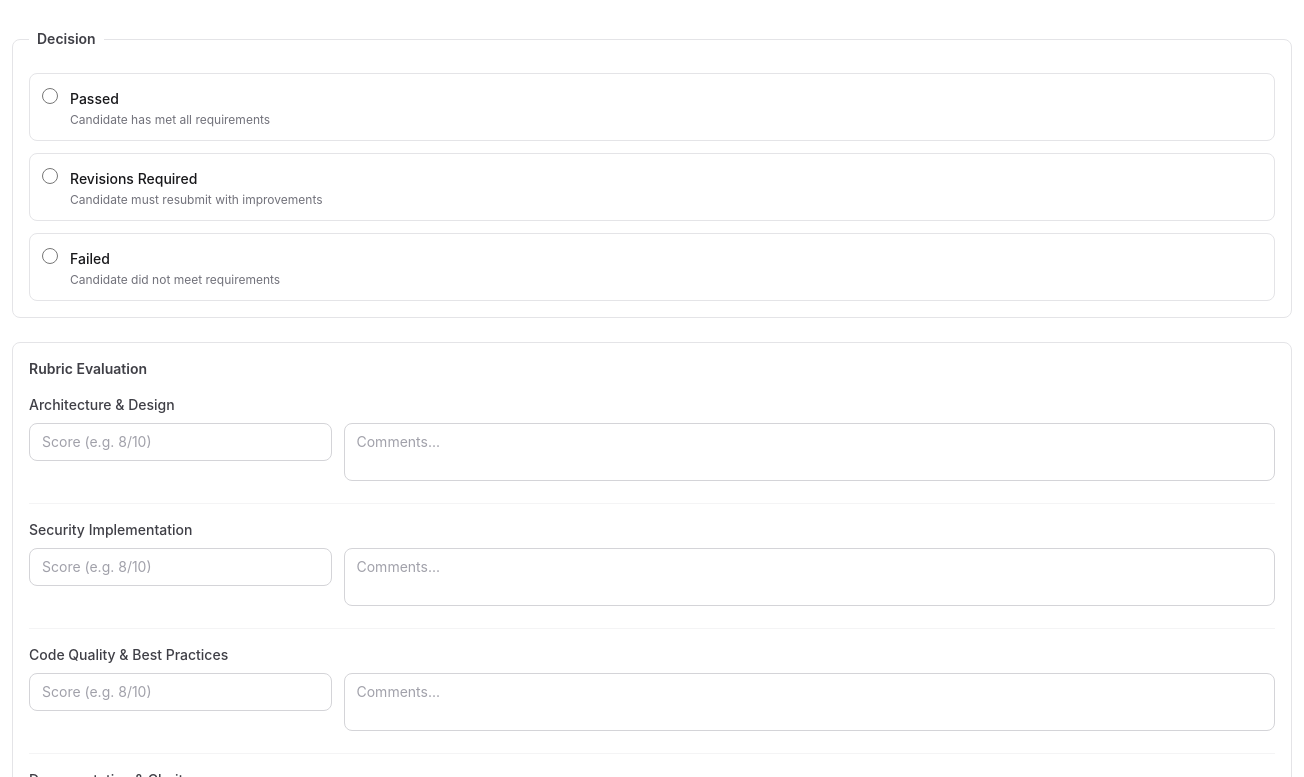
disables submit until a decision is selected
Click the radio button labelled "Passed Candidate has met all requirements".
click(50, 96)  # box [42, 88, 58, 104]
(page scrolled)
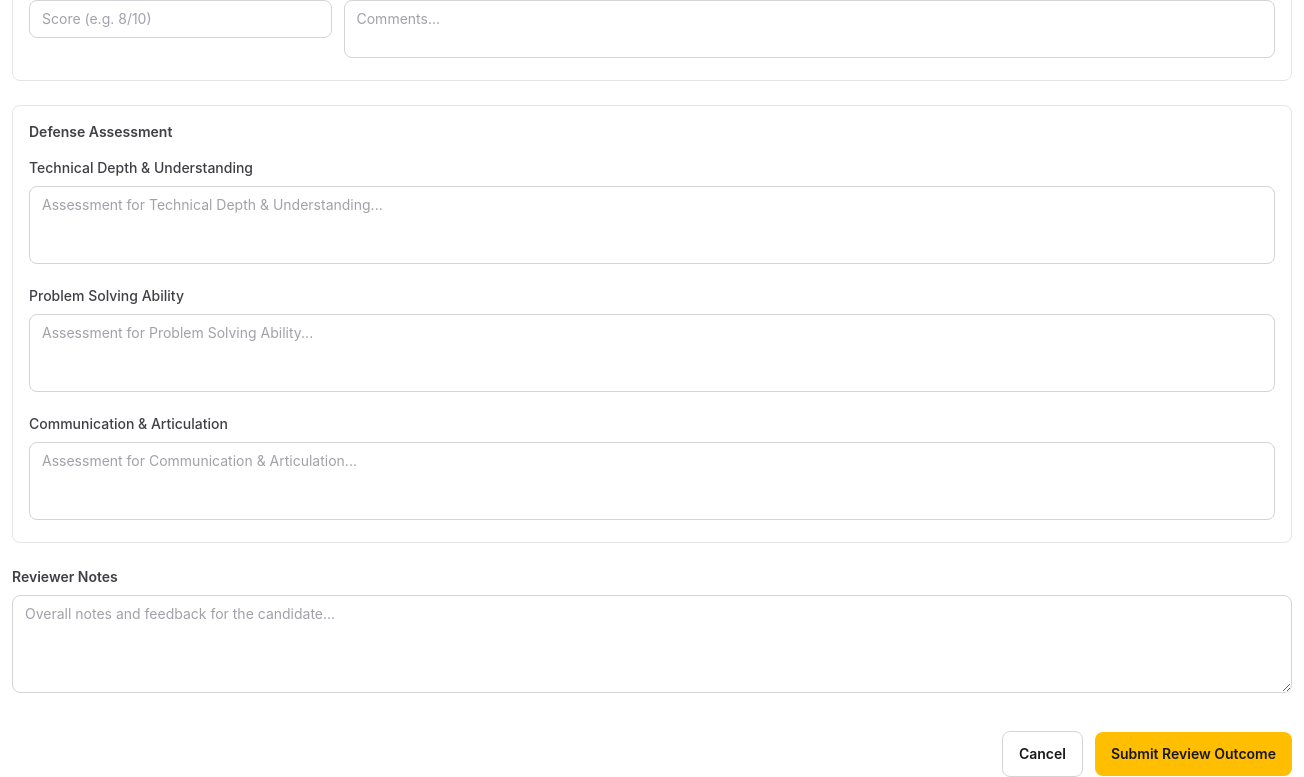
Check: the button "Submit Review Outcome" is enabled, box [1095, 732, 1292, 776]
